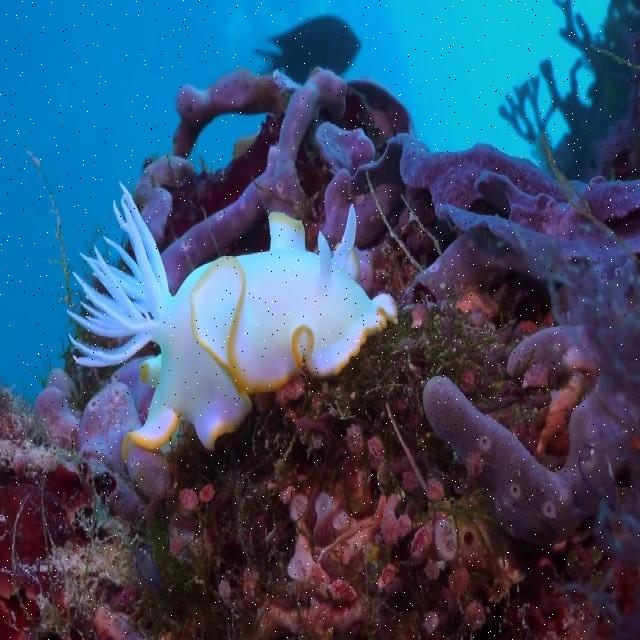aquatic plants: (0, 267, 639, 637)
reefs: (137, 72, 639, 540), (66, 181, 400, 459), (33, 351, 185, 504)
